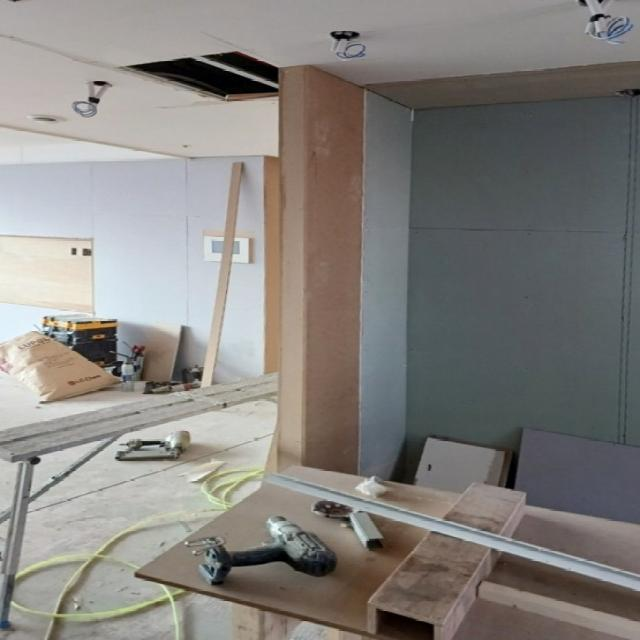board: (513, 428, 639, 523), (409, 436, 511, 492), (138, 322, 182, 382)
concrete bag: (6, 330, 123, 402)
steel: (347, 512, 383, 548)
wood: (198, 161, 242, 387), (475, 580, 639, 639)
